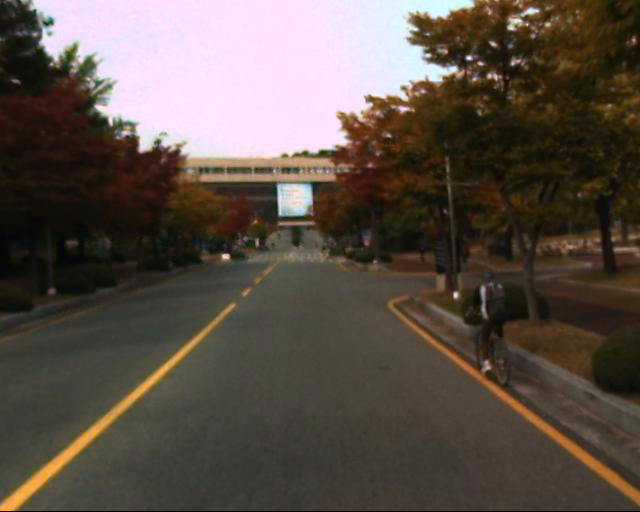person: (474, 262, 513, 373)
